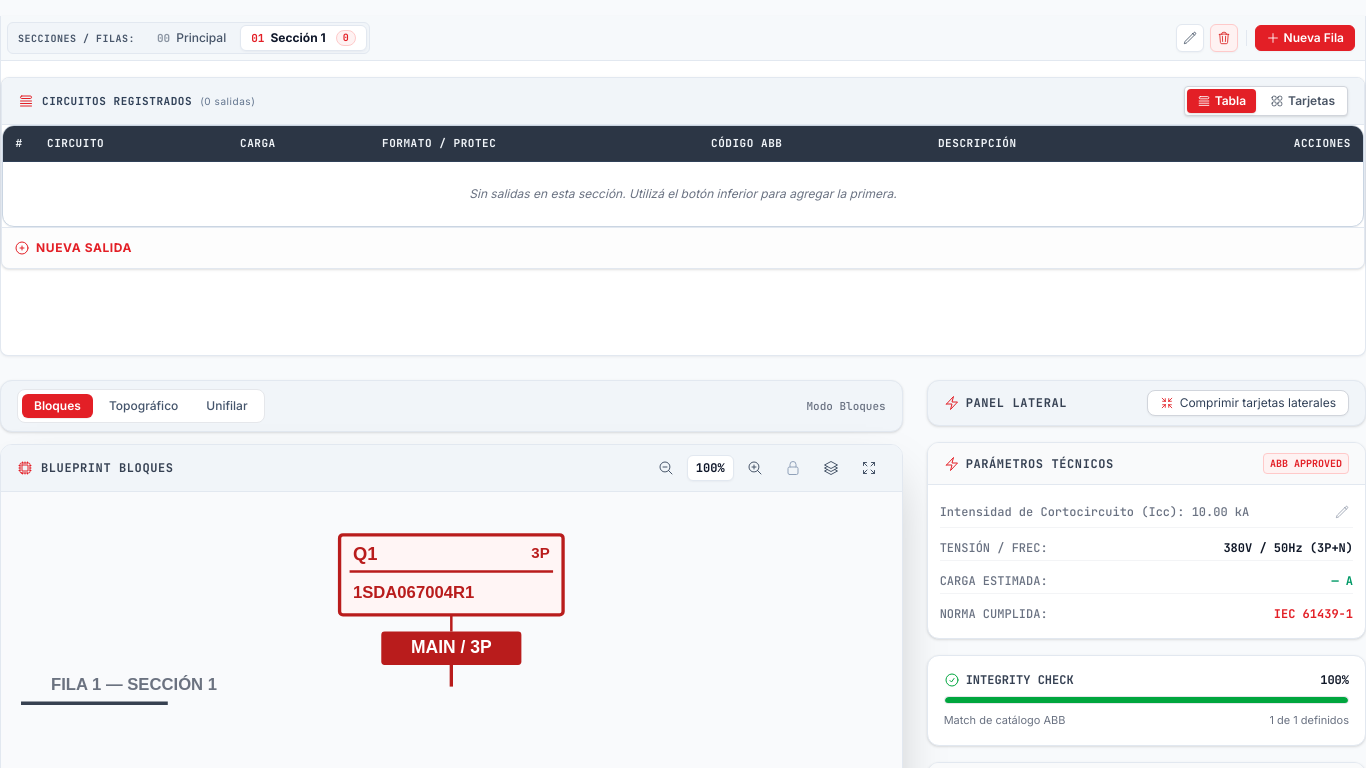
Test: DetalleTablero › renames the active fila via the editar fila icon and modal
Expected: the tab "01 Sección 1 0" is shown, x1=240 y1=25 x2=367 y2=51
Click the button named "renombrar fila activa": (1190, 38) x1=1176 y1=24 x2=1204 y2=52
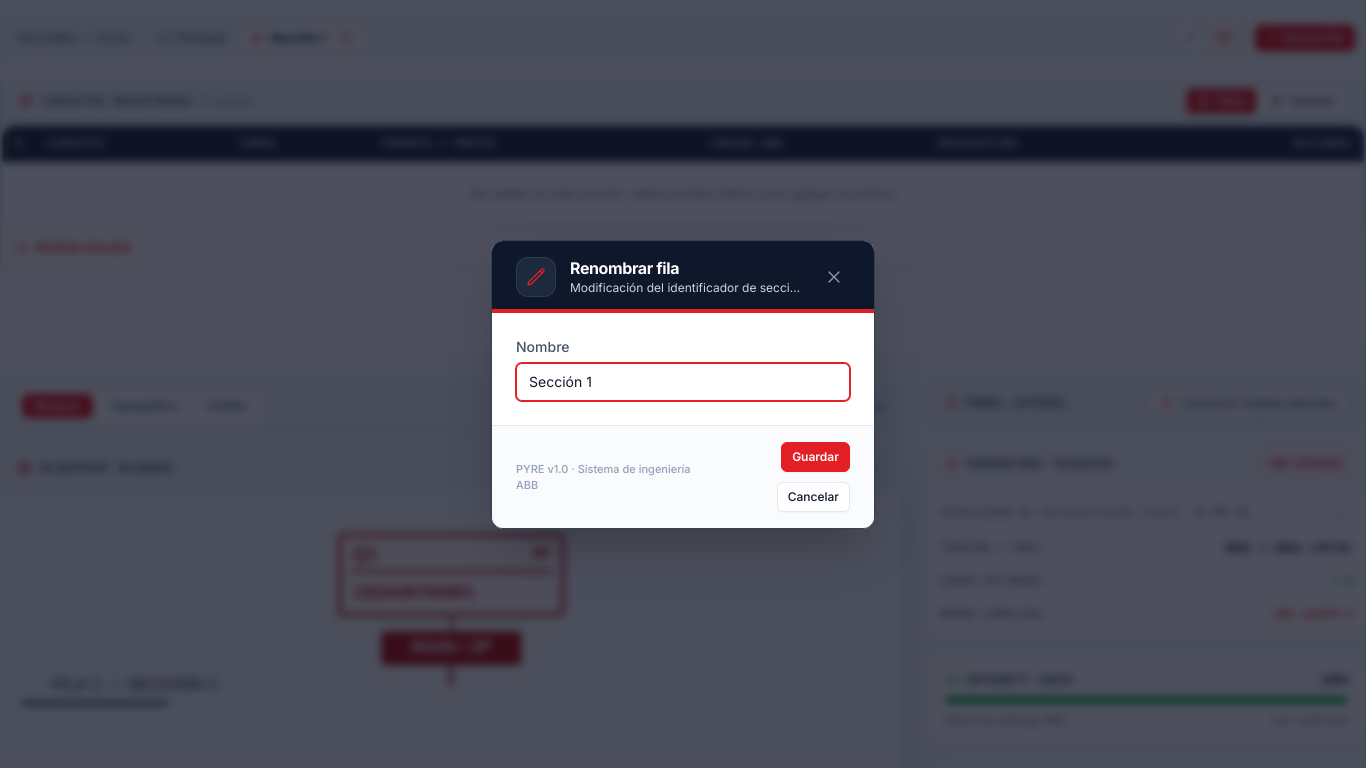
Now the field labelled "Nombre" holds "Sección 1"
Replace the text in the field labelled "Nombre" with "Fila renombrada": (683, 382) x1=516 y1=362 x2=850 y2=400
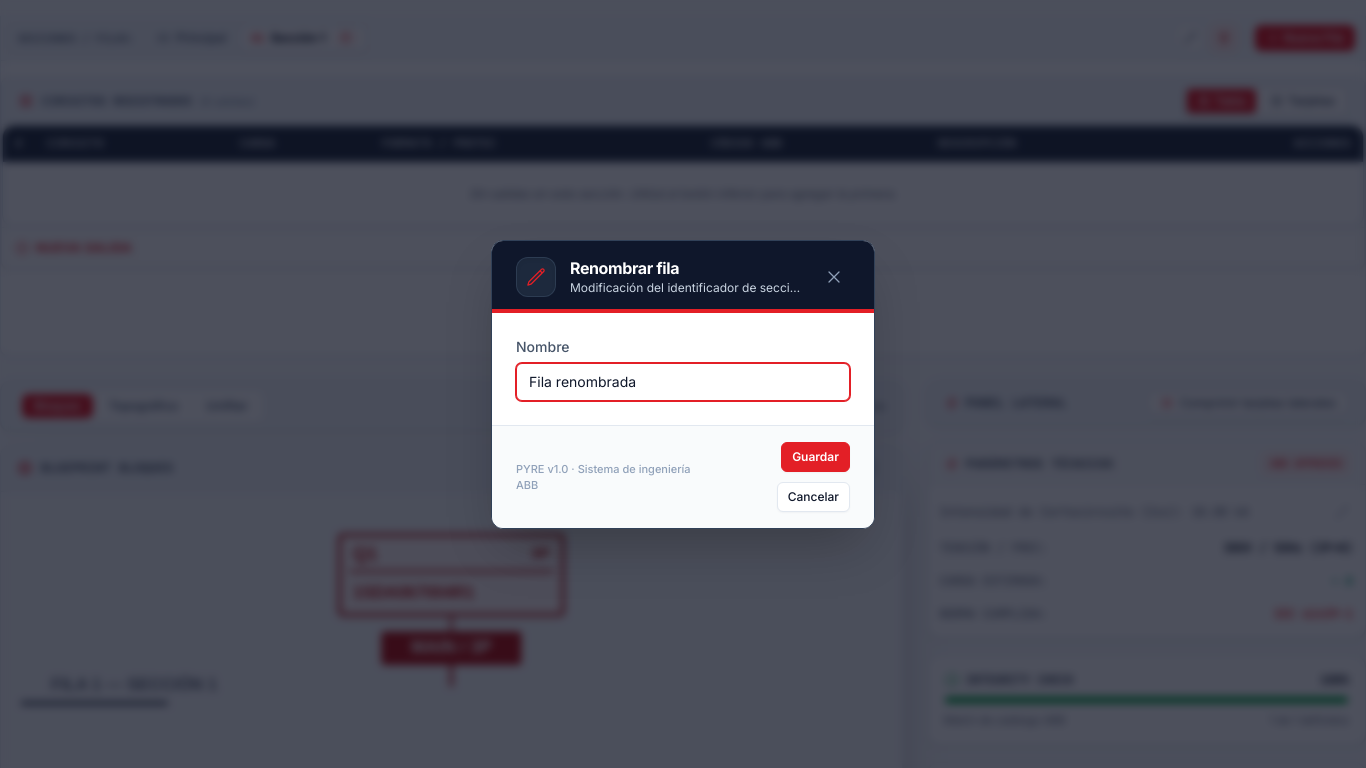
Click the button "Guardar": (816, 456) x1=781 y1=442 x2=850 y2=472
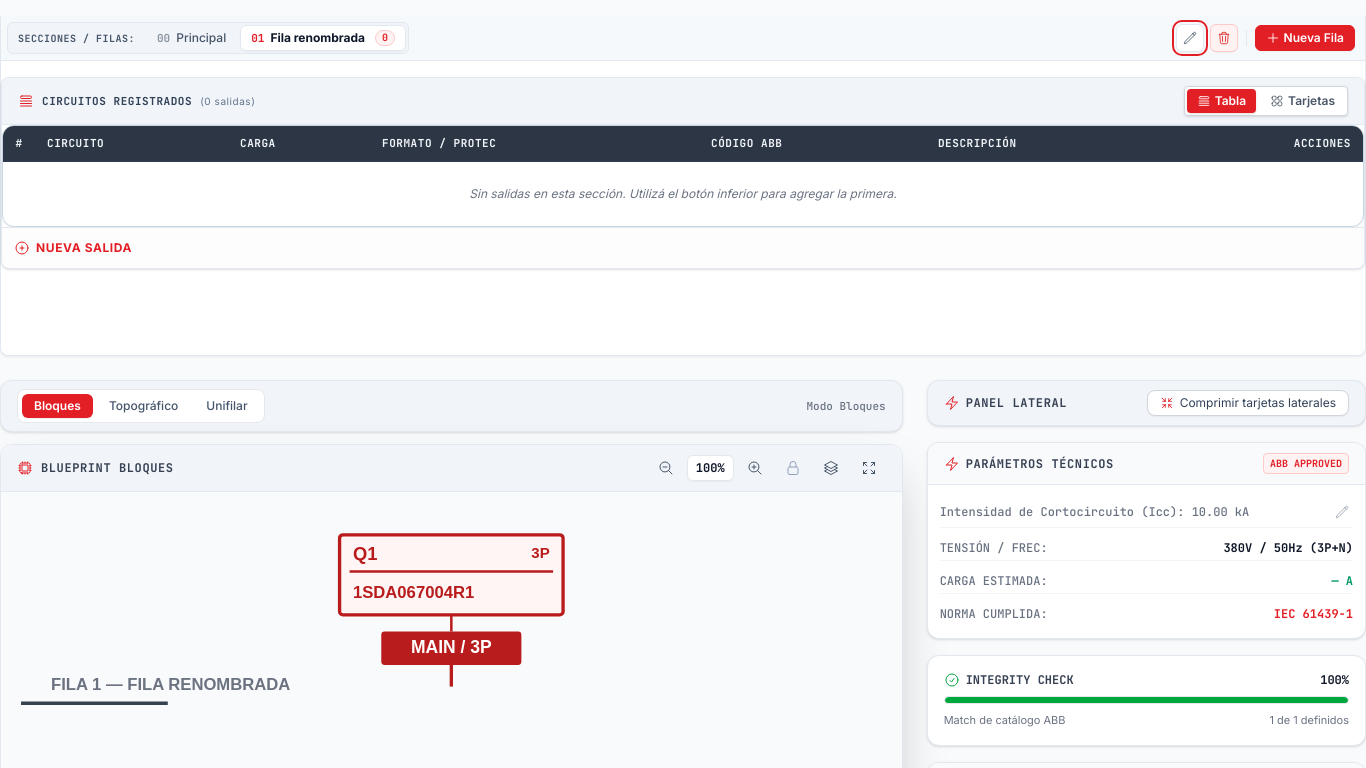
Now the tab "01 Fila renombrada 0" is shown, box x1=240 y1=25 x2=406 y2=51
